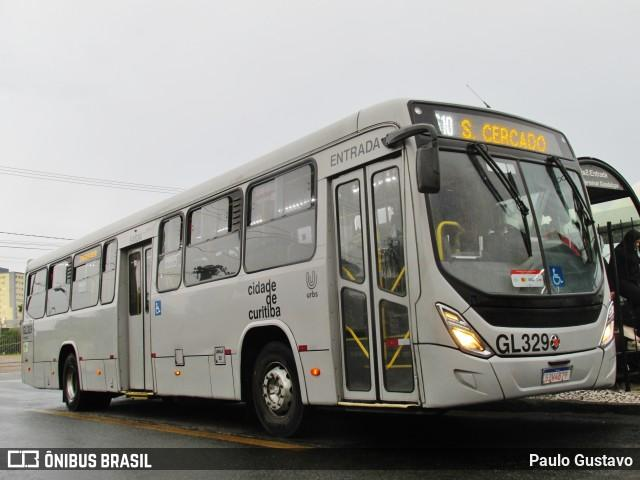S. CERCADO: (457, 115, 551, 157)
